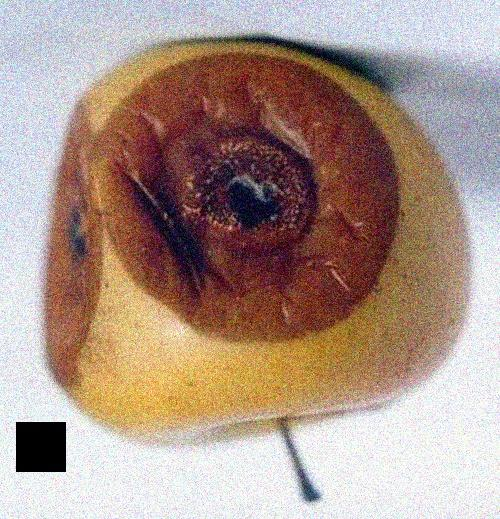rotten apple: (28, 39, 479, 446)
